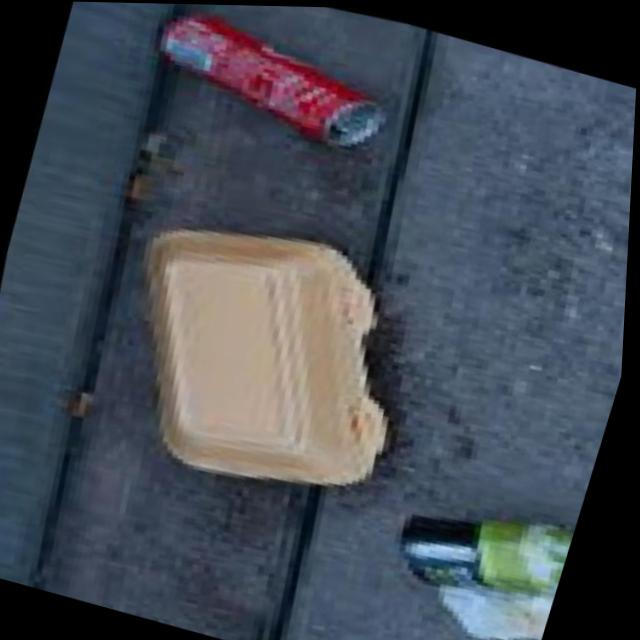clothes: (105, 2, 411, 172), (364, 454, 588, 624)
food: (419, 547, 566, 640)
trash: (58, 181, 457, 551), (112, 332, 178, 357)
